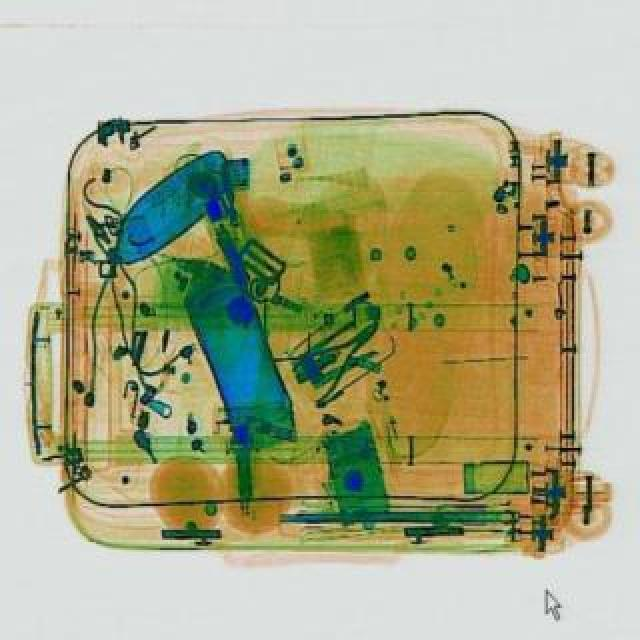wrench: (280, 304, 392, 404)
